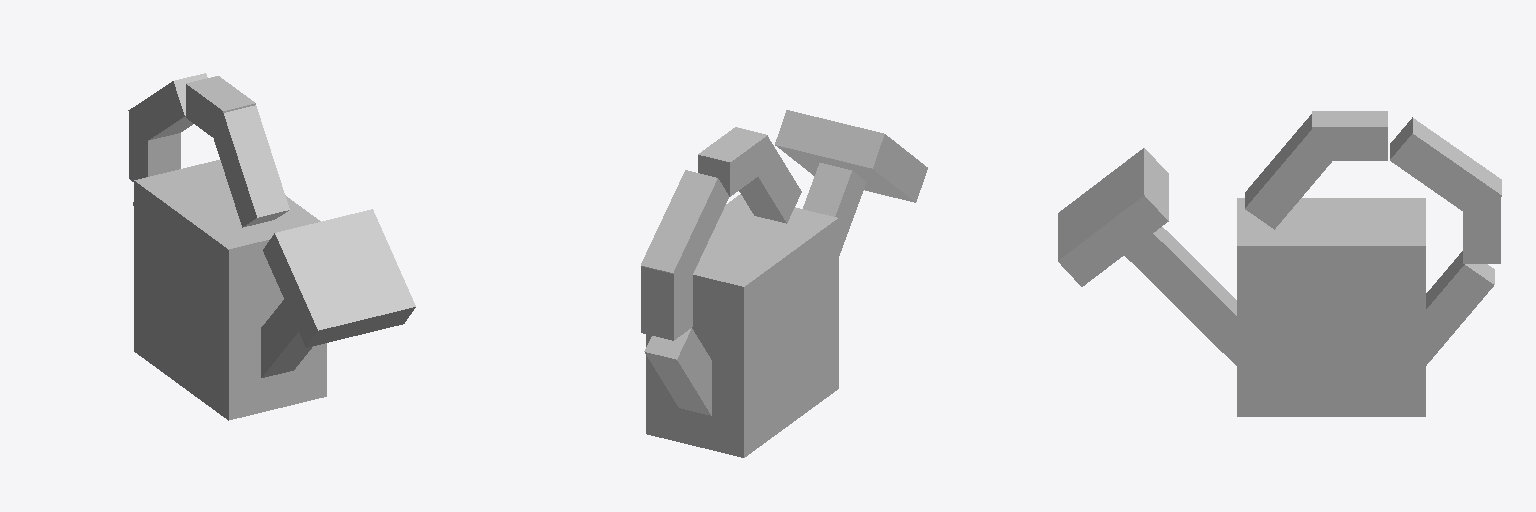
Rendered from watering Can.obj.
3 renders of one model, left to right at view 1: azimuth 30°, elevation 25°; view 2: azimuth 150°, elevation 25°; view 3: azimuth 270°, elevation 25°, orthographic.
Visible parts, largest first — view 1: cube; view 2: cube; view 3: cube.
Part boxes in pixels (left/top/right/bottom): cube: left=128, top=73, right=415, bottom=420; cube: left=641, top=110, right=927, bottom=457; cube: left=1058, top=111, right=1501, bottom=416.
Size of the model in its own units: 0.1875 by 0.5 by 0.7362.